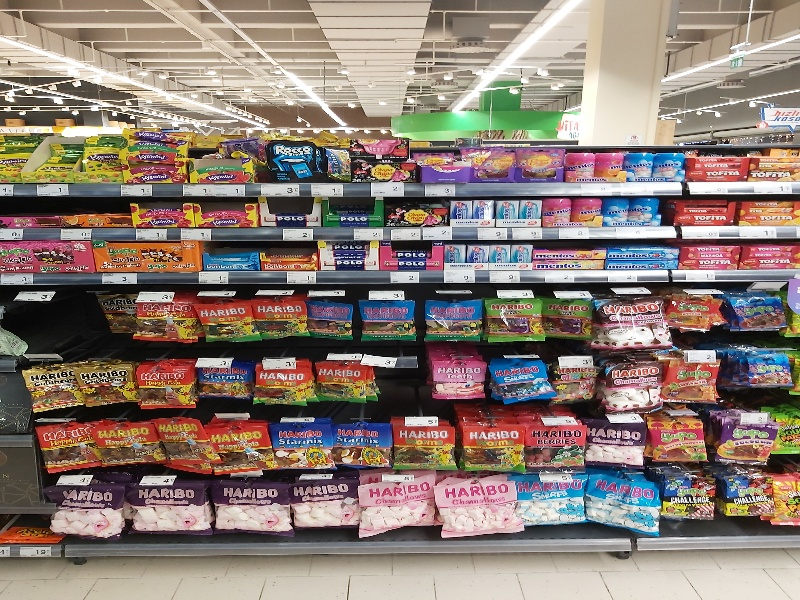urun1: (432, 474, 521, 539), (123, 474, 211, 539), (205, 475, 293, 540), (585, 472, 661, 543), (287, 475, 362, 541), (44, 478, 125, 537), (86, 422, 152, 478), (710, 419, 777, 473), (349, 134, 420, 183), (130, 295, 201, 344), (1, 238, 95, 274), (658, 469, 716, 527), (72, 360, 136, 412), (524, 420, 589, 471), (250, 359, 316, 409), (420, 295, 484, 343), (423, 360, 486, 406), (265, 135, 323, 184), (663, 360, 722, 407), (719, 471, 768, 524), (198, 298, 253, 344), (252, 290, 307, 336), (301, 294, 356, 340), (543, 296, 593, 344), (126, 202, 198, 230), (250, 201, 322, 229), (689, 150, 749, 183), (673, 194, 733, 227), (680, 236, 740, 269), (519, 142, 566, 181), (261, 244, 315, 270), (597, 147, 625, 184), (624, 146, 652, 183), (573, 194, 605, 225), (627, 200, 663, 227), (513, 238, 536, 262), (488, 240, 511, 264), (448, 196, 471, 220), (497, 194, 520, 218), (522, 197, 542, 221)
urun2: (352, 476, 435, 539), (514, 473, 585, 536), (203, 419, 275, 480), (459, 417, 530, 478), (268, 417, 336, 477), (392, 416, 459, 473), (32, 421, 98, 477), (135, 358, 202, 413), (338, 416, 397, 477), (599, 364, 666, 417), (103, 235, 198, 271), (584, 420, 649, 471), (310, 360, 376, 410), (484, 361, 551, 408), (484, 298, 548, 346), (646, 419, 710, 467), (659, 294, 728, 336), (155, 421, 206, 477), (354, 299, 418, 343), (723, 297, 793, 336), (200, 360, 251, 412), (24, 367, 78, 414), (550, 360, 595, 408), (188, 203, 260, 231), (318, 196, 390, 224), (737, 354, 794, 389), (740, 239, 800, 272), (472, 144, 519, 183), (200, 246, 254, 272), (606, 245, 676, 263), (533, 242, 603, 260), (567, 144, 595, 181), (655, 144, 683, 181), (598, 195, 630, 226), (542, 194, 574, 225), (466, 239, 489, 263), (443, 242, 466, 266), (472, 197, 495, 221)
